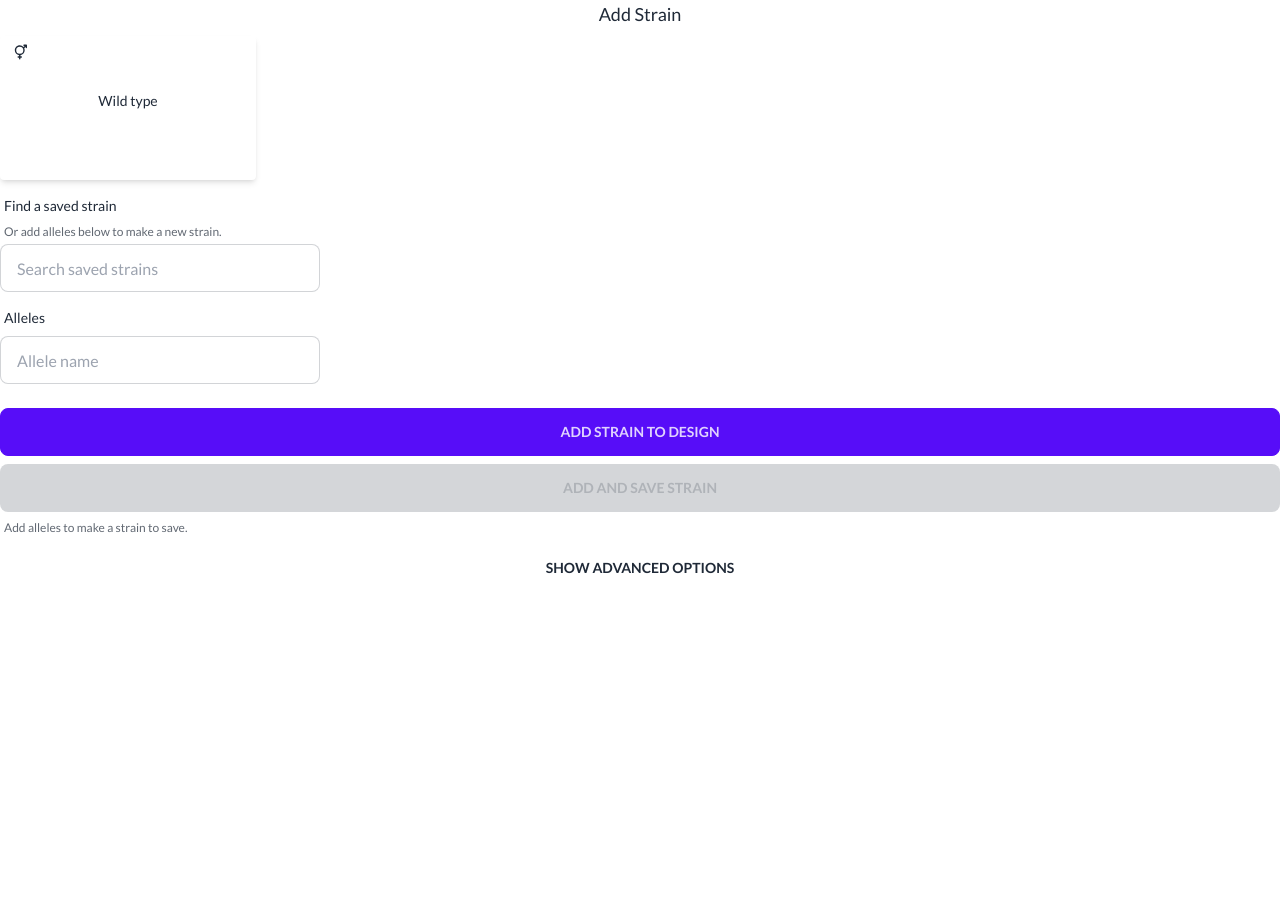
Scenario: Strain form › Add and Save Strain › when a strain of that name is already saved › asks before replacing, and Cancel saves nothing
Click the field labelled "Alleles" at (160, 360), box top-left (0, 336), bottom-right (320, 384)
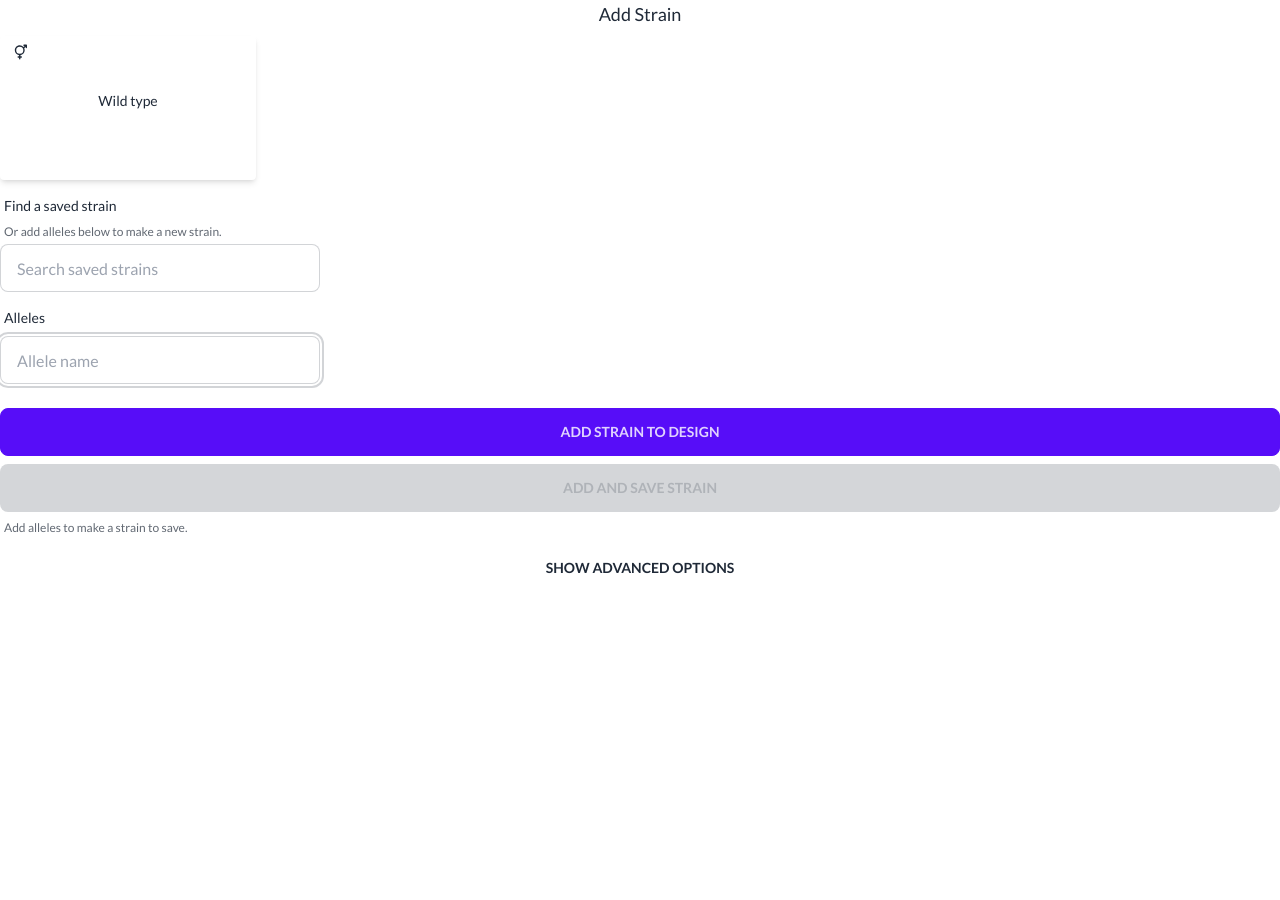
Type keys "ed"
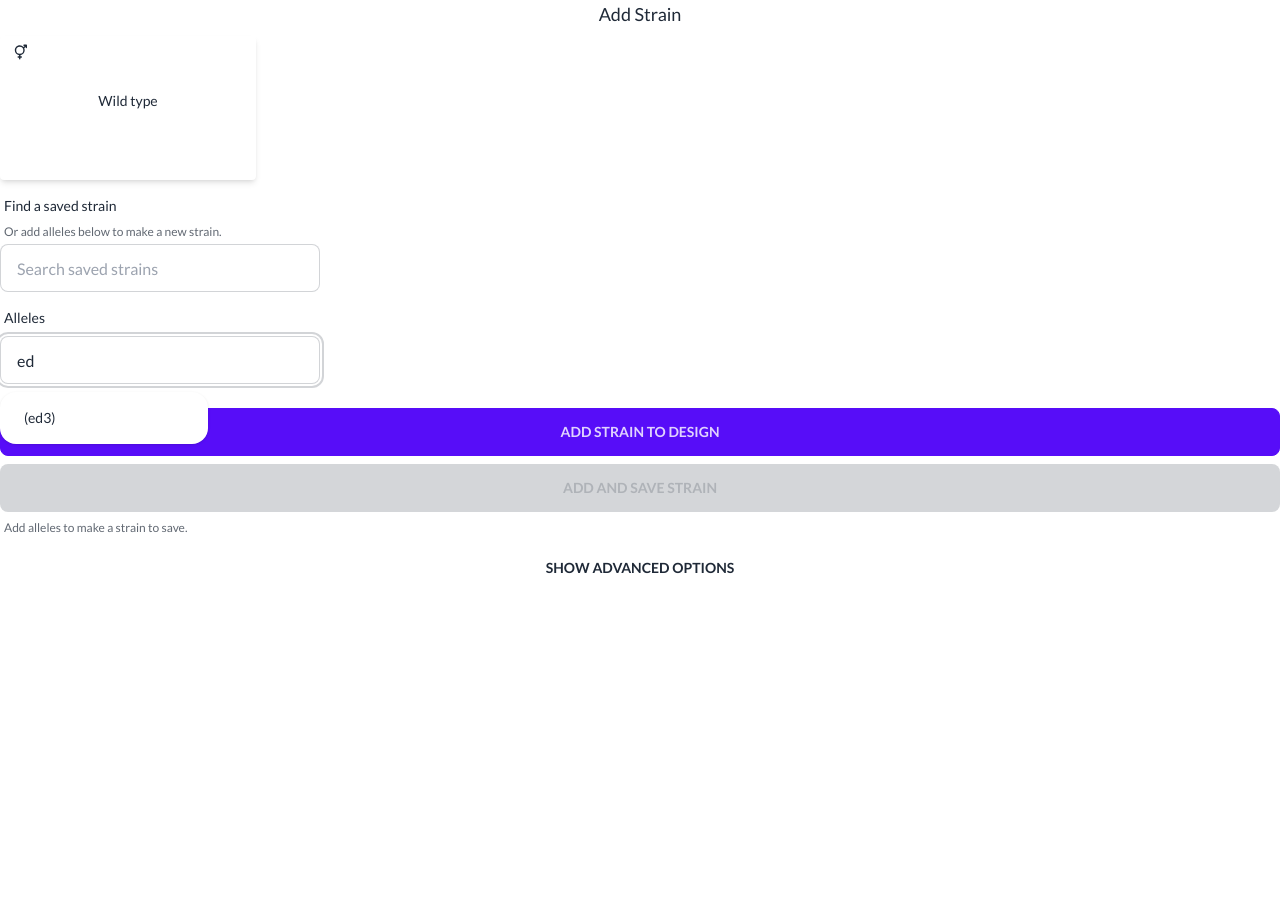
Click the link "(ed3)" at (40, 418), box top-left (24, 409), bottom-right (56, 426)
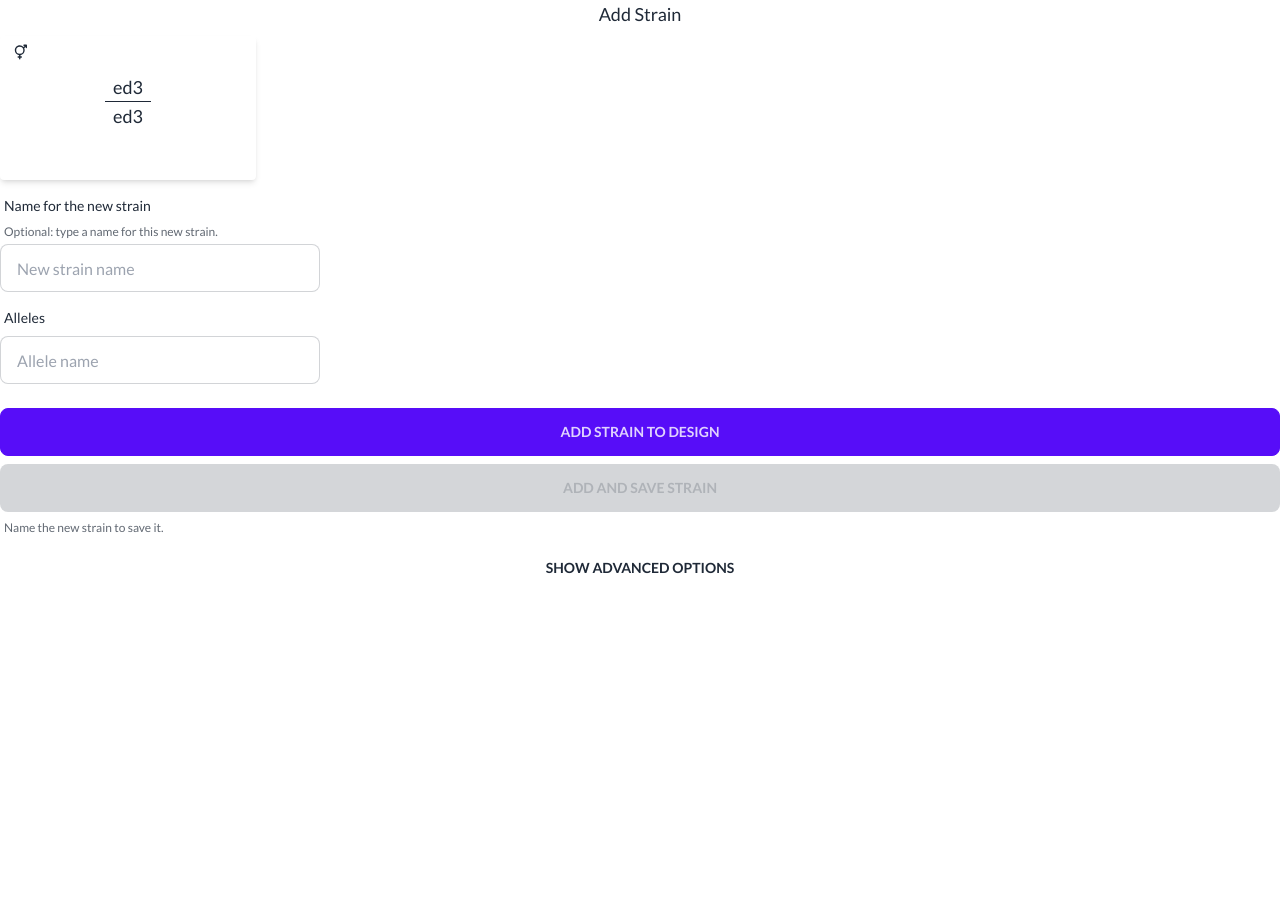
Type "NewOne" into the field labelled "Name for the new strain" at (160, 268), box top-left (0, 244), bottom-right (320, 292)
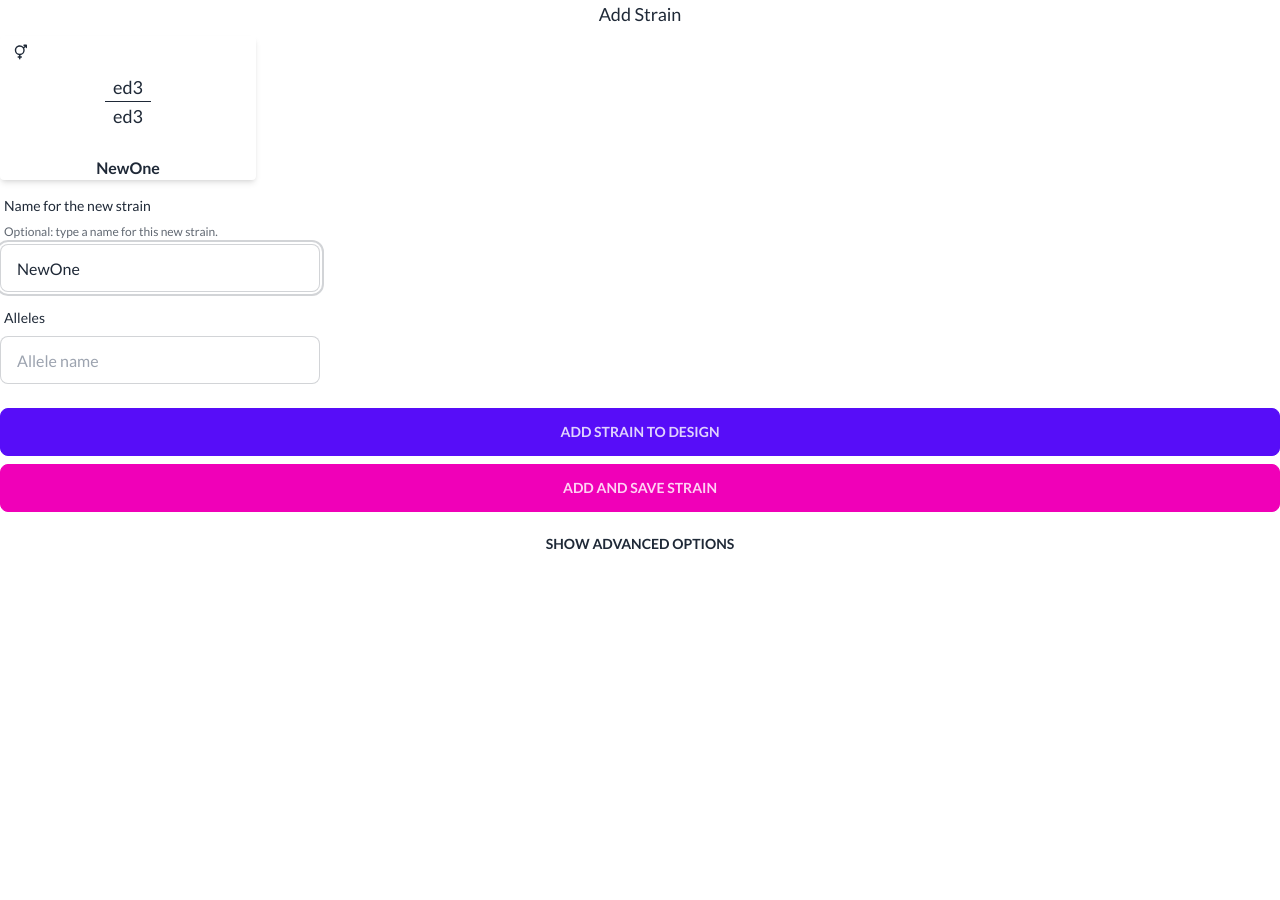
Click the button "Add and Save Strain" at (640, 488), box top-left (0, 464), bottom-right (1279, 512)
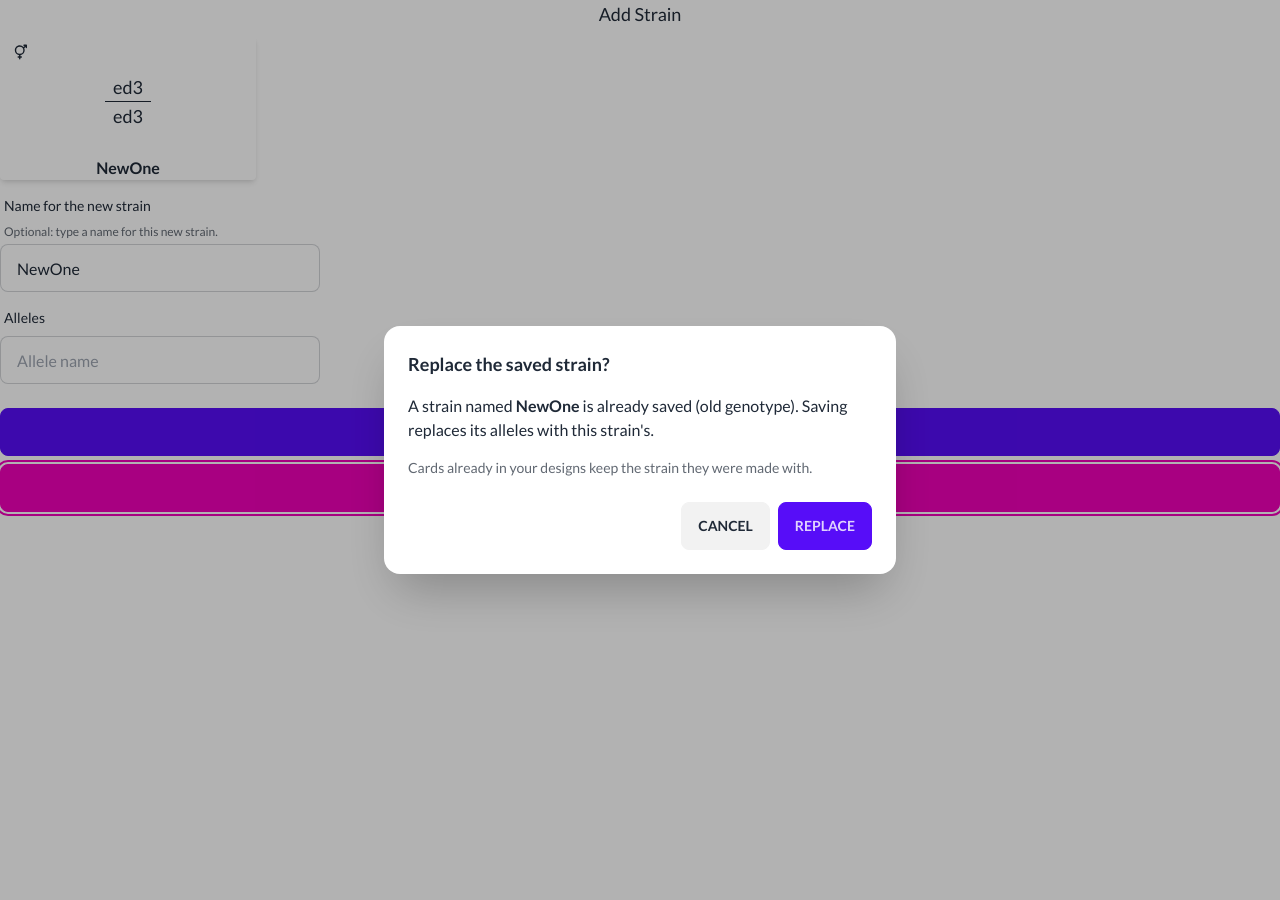
Now the heading "Replace the saved strain?" is shown, box top-left (408, 353), bottom-right (610, 375)
Now the element with test id "replace-strain-dialog" shows "NewOne", box top-left (516, 396), bottom-right (580, 415)
Click the button "Cancel" at (726, 526), box top-left (681, 502), bottom-right (770, 550)
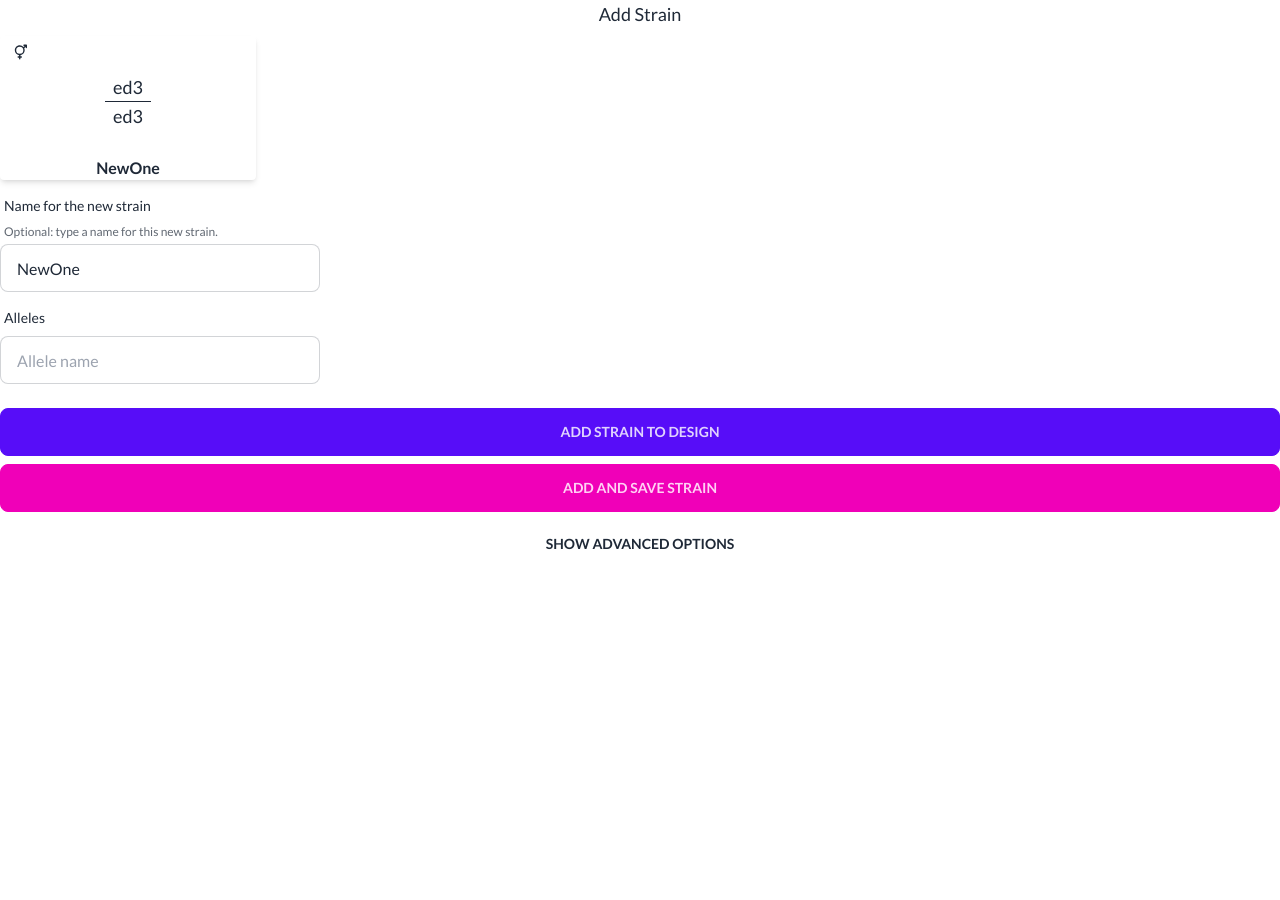
Now the heading "Replace the saved strain?" is gone
